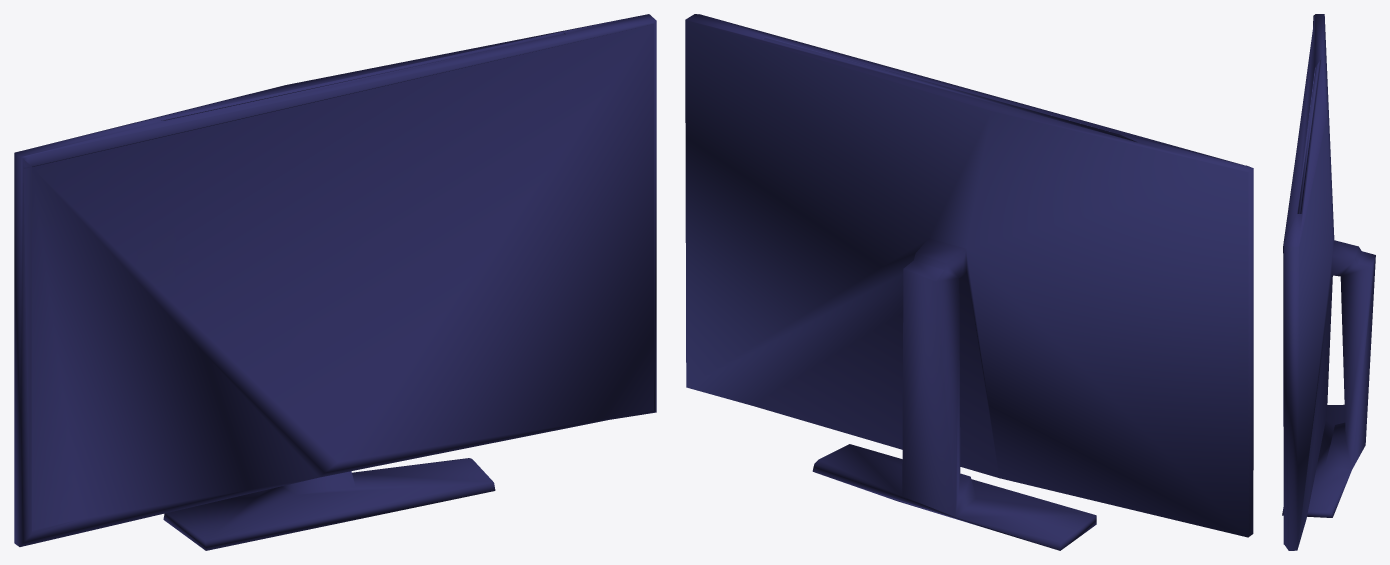
The model's file is model.progressive.glb.
3 views of the same model, side by side, from view 1: azimuth 30°, elevation 25°; view 2: azimuth 150°, elevation 25°; view 3: azimuth 270°, elevation 25° (orthographic). The views are drawn at different scales.
Parts seen in each view (by area): view 1: mesh_input; view 2: mesh_input; view 3: mesh_input.
Part boxes in pixels (bbox=[...]): mesh_input: bbox=[14, 14, 656, 550]; mesh_input: bbox=[685, 14, 1253, 550]; mesh_input: bbox=[1282, 14, 1375, 550].
Bounding box in the file's own units: 1.89 × 1.26 × 0.3223.
Materials: 1 (1 with a texture image).
